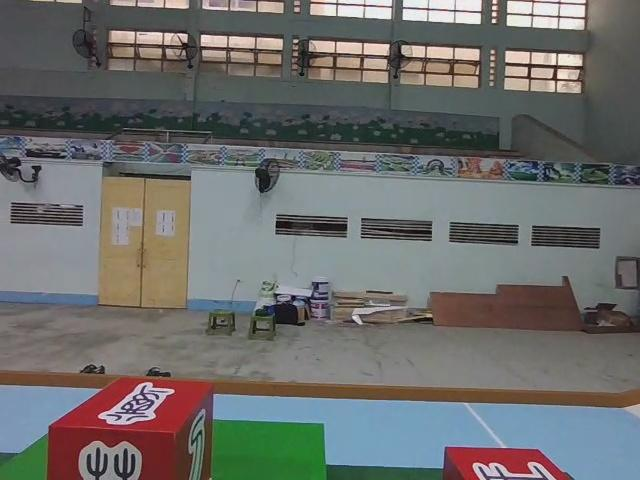R2 Fake: (45, 372, 216, 480)
